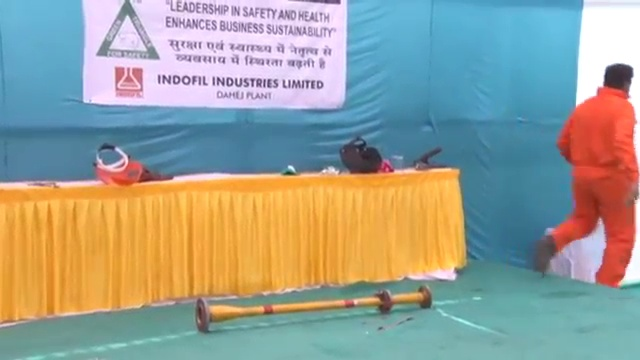helmet_off: (602, 63, 636, 99)
person: (535, 61, 640, 280)
